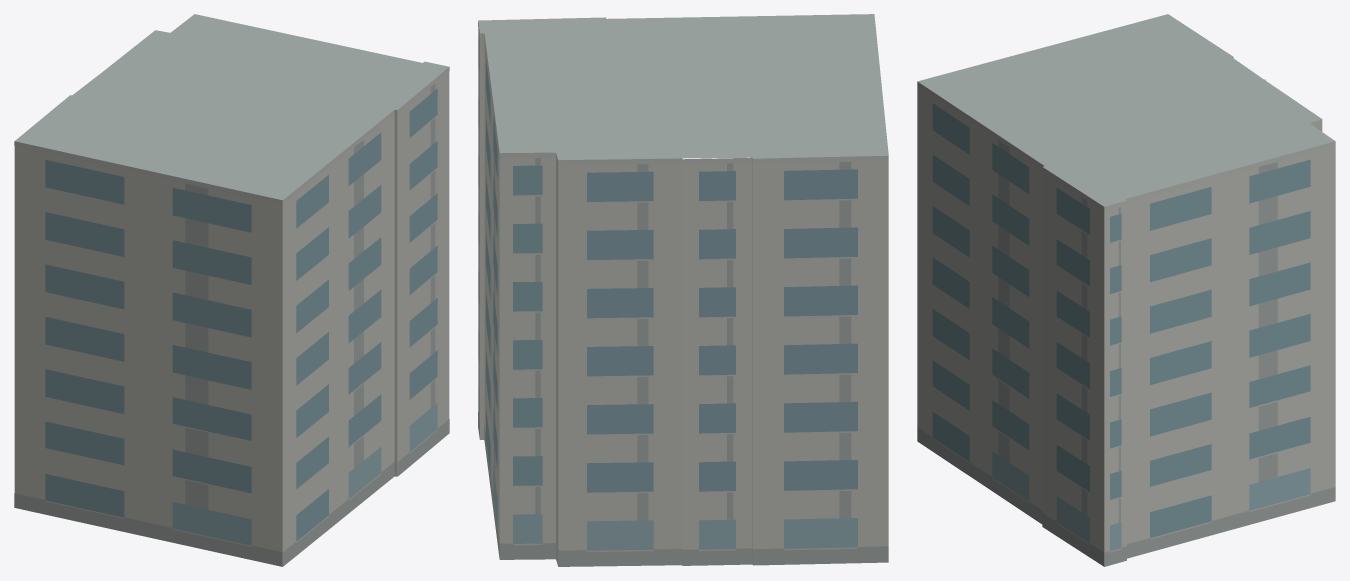
The model's file is survey-upis-32580492.glb.
The picture shows the model from 3 angles, left to right: view 1: azimuth 30°, elevation 25°; view 2: azimuth 150°, elevation 25°; view 3: azimuth 270°, elevation 25°; orthographic projection. The views are drawn at different scales.
Visible parts, largest first — view 1: survey-upis-32580492.tmp; view 2: survey-upis-32580492.tmp; view 3: survey-upis-32580492.tmp.
Part boxes in pixels (x1,y1,x2,y2): survey-upis-32580492.tmp: [14, 14, 449, 566]; survey-upis-32580492.tmp: [478, 14, 888, 566]; survey-upis-32580492.tmp: [917, 14, 1335, 566].
Bounding box in the file's own units: 21.61 × 18.8 × 19.8.
